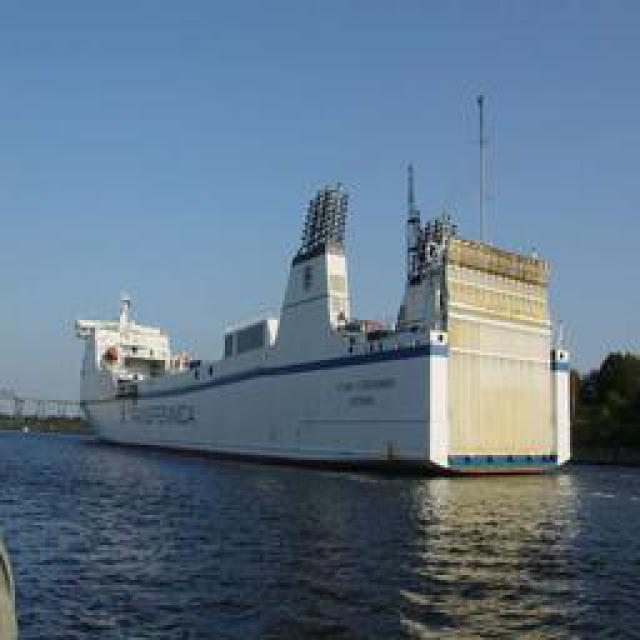Ship: (83, 144, 598, 469)
